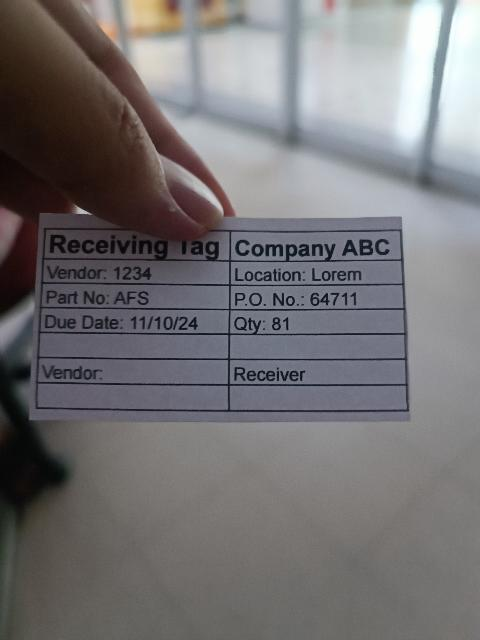PO no: (230, 283, 404, 310)
part no: (41, 283, 230, 311)
qty: (230, 309, 404, 334)
tags: (31, 216, 409, 420)
